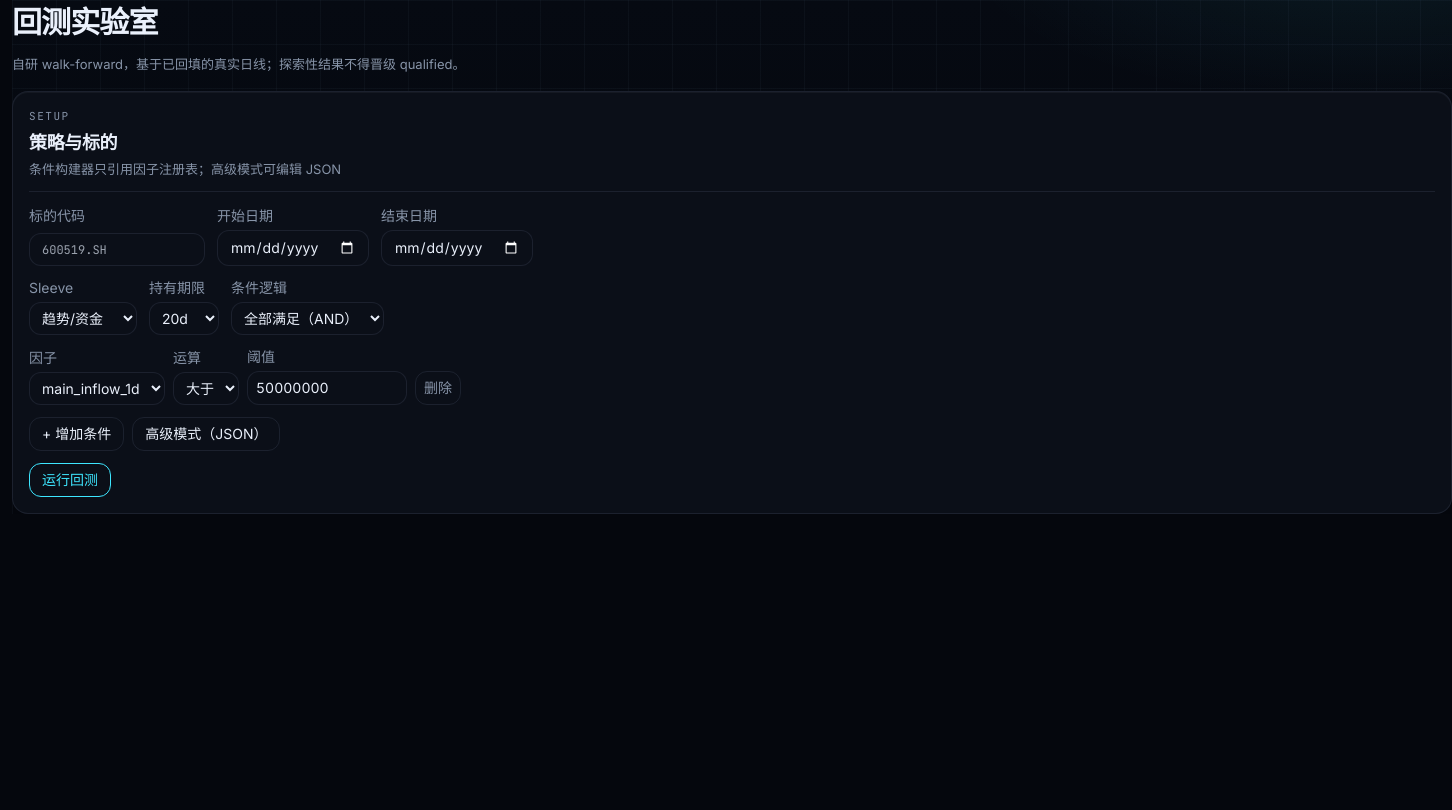
Test: DeskBacktestView › requires a symbol before running
The image size is (1452, 810).
Click the button "运行回测" at (70,480), box [29, 464, 111, 498]
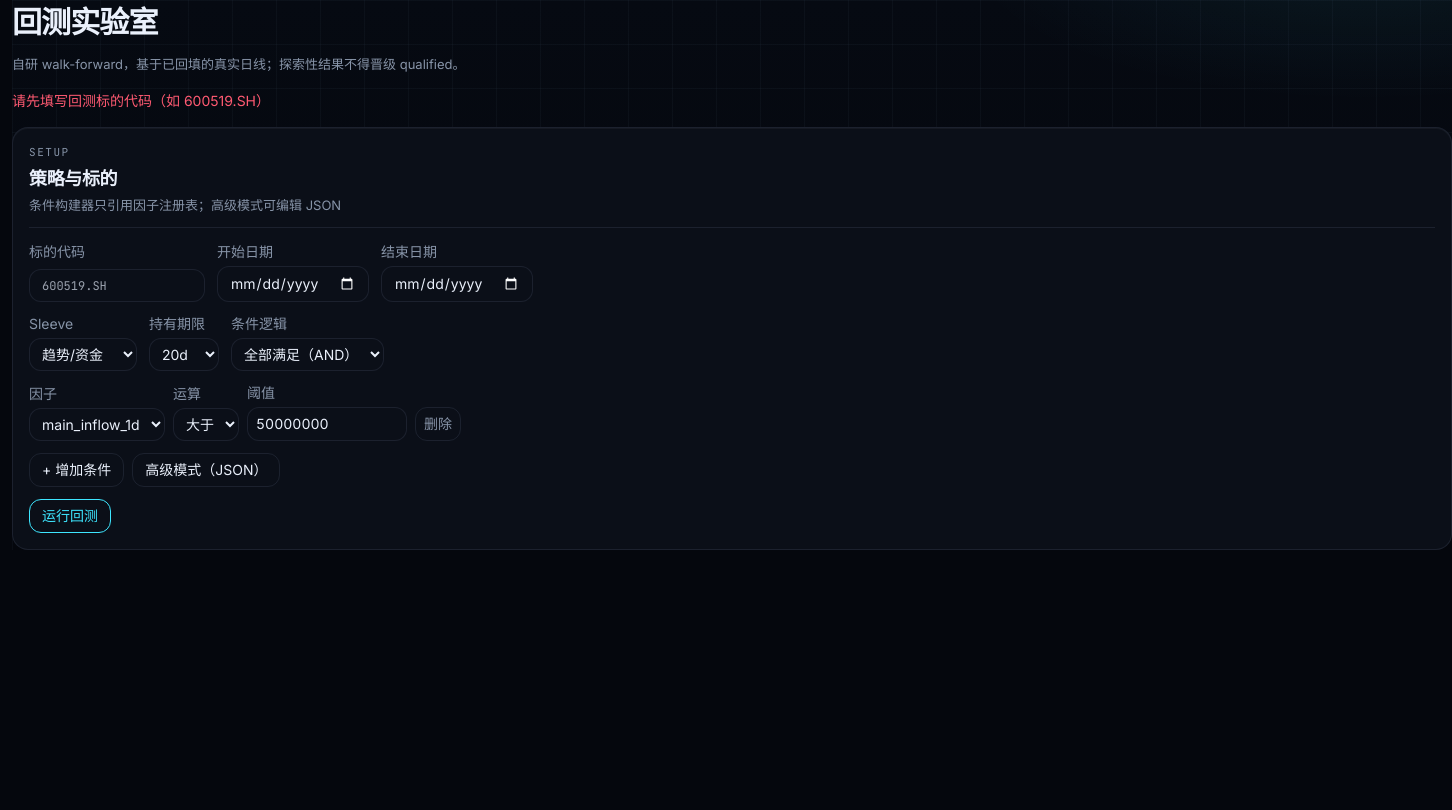
Expected: the text "请先填写回测标的代码（如 600519.SH）" is shown, [12, 92, 270, 109]
